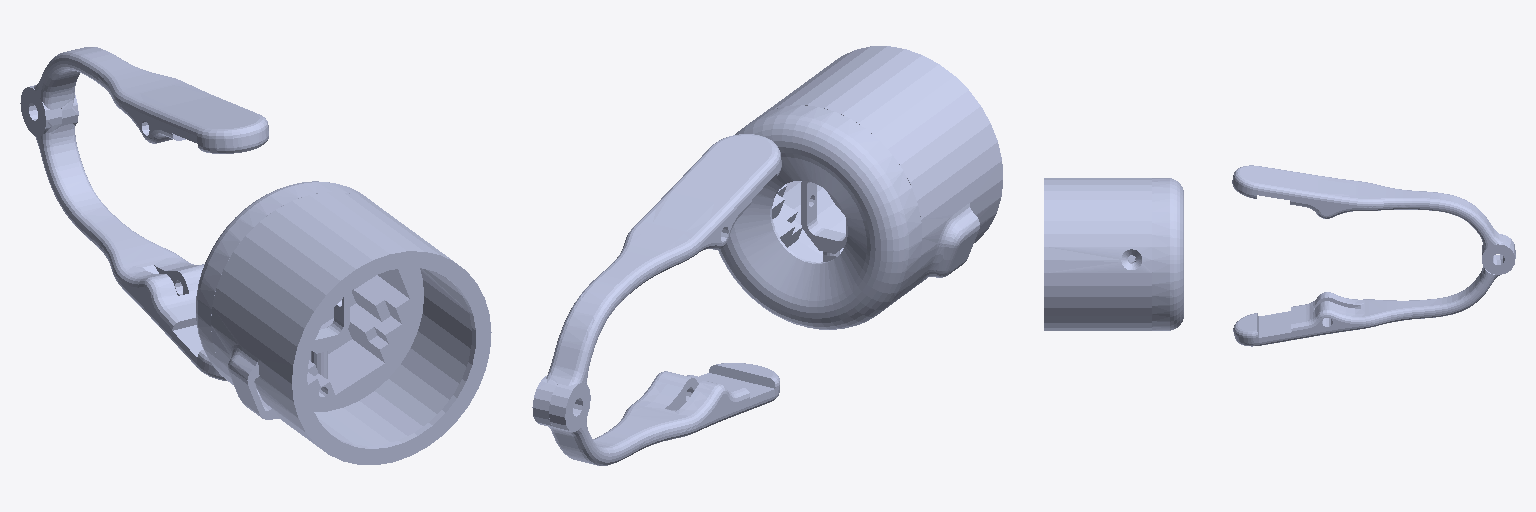
The robot description file, URDF, robot "simple_mtm_v10":
<?xml version="1.0" encoding="utf-8"?>
<!-- This URDF was automatically created by SolidWorks to URDF Exporter! Originally created by [author] ([email redacted]) 
     Commit Version: 1.6.0-4-g7f85cfe  Build Version: 1.6.7995.38578
     For more information, please see http://wiki.ros.org/sw_urdf_exporter -->
<robot
  name="simple_mtm_v10">
  <link
    name="base_link">
    <inertial>
      <origin
        xyz="5.4719872648555E-12 0.0331941103362252 0.121119699522856"
        rpy="0 0 0" />
      <mass
        value="1.10120945723253" />
      <inertia
        ixx="0.00778946719068149"
        ixy="-1.55089607188298E-14"
        ixz="-7.15589016934064E-15"
        iyy="0.00613139149583515"
        iyz="-6.01985020734907E-07"
        izz="0.00283497412761364" />
    </inertial>
    <visual>
      <origin
        xyz="0 0 0"
        rpy="0 0 0" />
      <geometry>
        <mesh
          filename="package://joint_testing/meshes/visual/base_link.STL" />
      </geometry>
      <material
        name="">
        <color
          rgba="0.752941176470588 0.752941176470588 0.752941176470588 1" />
      </material>
    </visual>
    <collision>
      <origin
        xyz="0 0 0"
        rpy="0 0 0" />
      <geometry>
        <mesh
          filename="package://joint_testing/meshes/visual/base_link.STL" />
      </geometry>
    </collision>
  </link>
  <link
    name="right_J1_link">
    <inertial>
      <origin
        xyz="-0.0272468641090351 -0.00431239962159002 0.0136177788693075"
        rpy="0 0 0" />
      <mass
        value="0.217265269014196" />
      <inertia
        ixx="8.82896586774548E-05"
        ixy="-5.23747831657561E-06"
        ixz="4.84618661160386E-07"
        iyy="9.88337545554134E-05"
        iyz="3.160560405688E-07"
        izz="0.000161817724573325" />
    </inertial>
    <visual>
      <origin
        xyz="0 0 0"
        rpy="0 0 0" />
      <geometry>
        <mesh
          filename="package://joint_testing/meshes/visual/right_J1_link.STL" />
      </geometry>
      <material
        name="">
        <color
          rgba="0.752941176470588 0.752941176470588 0.752941176470588 1" />
      </material>
    </visual>
    <collision>
      <origin
        xyz="0 0 0"
        rpy="0 0 0" />
      <geometry>
        <mesh
          filename="package://joint_testing/meshes/visual/right_J1_link.STL" />
      </geometry>
    </collision>
  </link>
  <joint
    name="right_J1_joint"
    type="continuous">
    <origin
      xyz="0 0.216999999999988 0.284999999999997"
      rpy="-1.57079632679489 0 0" />
    <parent
      link="base_link" />
    <child
      link="right_J1_link" />
    <axis
      xyz="0 0 1" />
    <limit
      lower="0"
      upper="0"
      effort="0"
      velocity="0" />
  </joint>
  <link
    name="right_J2_link">
    <inertial>
      <origin
        xyz="0.123474393867848 0.0151001355687571 0.00892223373852938"
        rpy="0 0 0" />
      <mass
        value="0.028442603557216" />
      <inertia
        ixx="2.23413747833825E-06"
        ixy="-3.63778375387454E-11"
        ixz="-8.63056316192372E-08"
        iyy="2.11946804960037E-05"
        iyz="1.95087355715519E-13"
        izz="2.18319915210086E-05" />
    </inertial>
    <visual>
      <origin
        xyz="0 0 0"
        rpy="0 0 0" />
      <geometry>
        <mesh
          filename="package://joint_testing/meshes/visual/right_J2_link.STL" />
      </geometry>
      <material
        name="">
        <color
          rgba="0.752941176470588 0.752941176470588 0.752941176470588 1" />
      </material>
    </visual>
    <collision>
      <origin
        xyz="0 0 0"
        rpy="0 0 0" />
      <geometry>
        <mesh
          filename="package://joint_testing/meshes/visual/right_J2_link.STL" />
      </geometry>
    </collision>
  </link>
  <joint
    name="right_J2_joint"
    type="continuous">
    <origin
      xyz="0.0349999999999925 0.0150999999999992 0.0200000000000018"
      rpy="3.14159265358979 0 0" />
    <parent
      link="right_J1_link" />
    <child
      link="right_J2_link" />
    <axis
      xyz="0 1 0" />
    <limit
      lower="0"
      upper="0"
      effort="0"
      velocity="0" />
  </joint>
  <link
    name="right_J3_link">
    <inertial>
      <origin
        xyz="0.169855168676658 -0.0030588386977515 0.000145482432828969"
        rpy="0 0 0" />
      <mass
        value="0.0380698507633094" />
      <inertia
        ixx="3.57015181869291E-06"
        ixy="5.77797289983113E-08"
        ixz="-8.33816062414886E-09"
        iyy="2.50590429093487E-05"
        iyz="-4.10119336474951E-09"
        izz="2.32459379312169E-05" />
    </inertial>
    <visual>
      <origin
        xyz="0 0 0"
        rpy="0 0 0" />
      <geometry>
        <mesh
          filename="package://joint_testing/meshes/visual/right_J3_link.STL" />
      </geometry>
      <material
        name="">
        <color
          rgba="0.752941176470588 0.752941176470588 0.752941176470588 1" />
      </material>
    </visual>
    <collision>
      <origin
        xyz="0 0 0"
        rpy="0 0 0" />
      <geometry>
        <mesh
          filename="package://joint_testing/meshes/visual/right_J3_link.STL" />
      </geometry>
    </collision>
  </link>
  <joint
    name="right_J3_joint"
    type="continuous">
    <origin
      xyz="0.227499999999998 0.0150999999999999 0.0195"
      rpy="1.5707963267949 0 -1.5707963267949" />
    <parent
      link="right_J2_link" />
    <child
      link="right_J3_link" />
    <axis
      xyz="0 1 0" />
    <limit
      lower="0"
      upper="0"
      effort="0"
      velocity="0" />
  </joint>
  <link
    name="right_G3_link">
    <inertial>
      <origin
        xyz="-0.000538298034256923 -0.0307137660110574 0.039930624443191"
        rpy="0 0 0" />
      <mass
        value="0.0139115090394775" />
      <inertia
        ixx="2.05714095768684E-06"
        ixy="1.18920441797106E-08"
        ixz="1.26103314022491E-08"
        iyy="3.24885522100954E-06"
        iyz="8.79998026858796E-09"
        izz="2.08516206561185E-06" />
    </inertial>
    <visual>
      <origin
        xyz="0 0 0"
        rpy="0 0 0" />
      <geometry>
        <mesh
          filename="package://joint_testing/meshes/visual/right_G3_link.STL" />
      </geometry>
      <material
        name="">
        <color
          rgba="0.792156862745098 0.819607843137255 0.933333333333333 1" />
      </material>
    </visual>
    <collision>
      <origin
        xyz="0 0 0"
        rpy="0 0 0" />
      <geometry>
        <mesh
          filename="package://joint_testing/meshes/visual/right_G3_link.STL" />
      </geometry>
    </collision>
  </link>
  <joint
    name="right_G3_joint"
    type="continuous">
    <origin
      xyz="0.192500000000002 0.00969999999999821 0"
      rpy="0 1.5707963267949 0" />
    <parent
      link="right_J3_link" />
    <child
      link="right_G3_link" />
    <axis
      xyz="0 1 0" />
    <limit
      lower="0"
      upper="0"
      effort="0"
      velocity="0" />
  </joint>
  <link
    name="right_G2_link">
    <inertial>
      <origin
        xyz="-0.000193564668082624 -0.0340058831715823 0.0387465222468122"
        rpy="0 0 0" />
      <mass
        value="0.000175394578104925" />
      <inertia
        ixx="6.00806245621315E-09"
        ixy="1.19071568961015E-11"
        ixz="-1.77273008759156E-09"
        iyy="7.79464906245331E-09"
        iyz="3.12378910526836E-11"
        izz="2.03310817422897E-09" />
    </inertial>
    <visual>
      <origin
        xyz="0 0 0"
        rpy="0 0 0" />
      <geometry>
        <mesh
          filename="package://joint_testing/meshes/visual/right_G2_link.STL" />
      </geometry>
      <material
        name="">
        <color
          rgba="0.792156862745098 0.819607843137255 0.933333333333333 1" />
      </material>
    </visual>
    <collision>
      <origin
        xyz="0 0 0"
        rpy="0 0 0" />
      <geometry>
        <mesh
          filename="package://joint_testing/meshes/visual/right_G2_link.STL" />
      </geometry>
    </collision>
  </link>
  <joint
    name="right_G2_joint"
    type="continuous">
    <origin
      xyz="-0.0139815439024298 0.00129786118054417 0.0772341692003624"
      rpy="-3.14159265358979 0.364174851103282 -3.14159265358979" />
    <parent
      link="right_G3_link" />
    <child
      link="right_G2_link" />
    <axis
      xyz="0.356178381855326 0 0.934417979439031" />
    <limit
      lower="0"
      upper="0"
      effort="0"
      velocity="0" />
  </joint>
  <link
    name="right_G1_link">
    <inertial>
      <origin
        xyz="0.00018689693137236 -0.119856134439348 0.0397448705988263"
        rpy="0 0 0" />
      <mass
        value="0.00625621520567208" />
      <inertia
        ixx="1.27666098425882E-05"
        ixy="-3.81984029962047E-10"
        ixz="1.82290603449966E-09"
        iyy="1.14531246370276E-07"
        iyz="-1.08584454873241E-09"
        izz="1.27722041084183E-05" />
    </inertial>
    <visual>
      <origin
        xyz="0 0 0"
        rpy="0 0 0" />
      <geometry>
        <mesh
          filename="package://joint_testing/meshes/visual/right_G1_link.STL" />
      </geometry>
      <material
        name="">
        <color
          rgba="0.792156862745098 0.819607843137255 0.933333333333333 1" />
      </material>
    </visual>
    <collision>
      <origin
        xyz="0 0 0"
        rpy="0 0 0" />
      <geometry>
        <mesh
          filename="package://joint_testing/meshes/visual/right_G1_link.STL" />
      </geometry>
    </collision>
  </link>
  <joint
    name="right_G1_joint"
    type="continuous">
    <origin
      xyz="0 0 0"
      rpy="0 0 0" />
    <parent
      link="right_G2_link" />
    <child
      link="right_G1_link" />
    <axis
      xyz="0.934417979439031 0 -0.356178381855326" />
    <limit
      lower="0"
      upper="0"
      effort="0"
      velocity="0" />
  </joint>
  <link
    name="right_lever_1_link">
    <inertial>
      <origin
        xyz="0.00510793200874701 -0.0889448703770281 0.0529085638546365"
        rpy="0 0 0" />
      <mass
        value="0.00204075415287948" />
      <inertia
        ixx="7.29183551455903E-07"
        ixy="-6.03030711122902E-08"
        ixz="-1.19420109398606E-08"
        iyy="6.47741964762146E-08"
        iyz="-1.39761570231975E-07"
        izz="7.10623170243152E-07" />
    </inertial>
    <visual>
      <origin
        xyz="0 0 0"
        rpy="0 0 0" />
      <geometry>
        <mesh
          filename="package://joint_testing/meshes/visual/right_lever_1_link.STL" />
      </geometry>
      <material
        name="">
        <color
          rgba="0.792156862745098 0.819607843137255 0.933333333333333 1" />
      </material>
    </visual>
    <collision>
      <origin
        xyz="0 0 0"
        rpy="0 0 0" />
      <geometry>
        <mesh
          filename="package://joint_testing/meshes/visual/right_lever_1_link.STL" />
      </geometry>
    </collision>
  </link>
  <joint
    name="right_lever_1_joint"
    type="continuous">
    <origin
      xyz="-0.000578106027015302 0.00496024892621399 0.0771324048250518"
      rpy="-3.12182427052133 -7.44784606204923E-05 -3.13405782561958" />
    <parent
      link="right_G1_link" />
    <child
      link="right_lever_1_link" />
    <axis
      xyz="0.934417979439032 0 -0.356178381855324" />
    <limit
      lower="0"
      upper="0"
      effort="0"
      velocity="0" />
  </joint>
  <link
    name="right_lever_2_link">
    <inertial>
      <origin
        xyz="0.00510793196677284 -0.0889448706223261 0.0529085639711742"
        rpy="0 0 0" />
      <mass
        value="0.00204075409890077" />
      <inertia
        ixx="7.2918356031614E-07"
        ixy="-6.0303075402171E-08"
        ixz="-1.19420115546858E-08"
        iyy="6.47741938421055E-08"
        iyz="-1.39761574634627E-07"
        izz="7.10623180129961E-07" />
    </inertial>
    <visual>
      <origin
        xyz="0 0 0"
        rpy="0 0 0" />
      <geometry>
        <mesh
          filename="package://joint_testing/meshes/visual/right_lever_2_link.STL" />
      </geometry>
      <material
        name="">
        <color
          rgba="0.792156862745098 0.819607843137255 0.933333333333333 1" />
      </material>
    </visual>
    <collision>
      <origin
        xyz="0 0 0"
        rpy="0 0 0" />
      <geometry>
        <mesh
          filename="package://joint_testing/meshes/visual/right_lever_2_link.STL" />
      </geometry>
    </collision>
  </link>
  <joint
    name="right_lever_2_joint"
    type="continuous">
    <origin
      xyz="0.00036791989843285 0.00447042270834766 0.000824842222483302"
      rpy="0.00686960114312612 0 -0.00261851443835586" />
    <parent
      link="right_G1_link" />
    <child
      link="right_lever_2_link" />
    <axis
      xyz="-0.934417979439032 0 0.356178381855325" />
    <limit
      lower="0"
      upper="0"
      effort="0"
      velocity="0" />
  </joint>
</robot>

--- Render facts (derived) ---
The picture shows the robot from 3 angles, left to right: view 1: azimuth 30°, elevation 25°; view 2: azimuth 150°, elevation 25°; view 3: azimuth 270°, elevation 25°; orthographic projection.
Model simple_mtm_v10 with 9 links and 8 joints (8 continuous), rooted at base_link, posed all joints at 0.
Links seen in each view (by area): view 1: right_G3_link, right_lever_1_link, right_lever_2_link, right_G2_link; view 2: right_G3_link, right_lever_2_link, right_lever_1_link, right_G2_link; view 3: right_G3_link, right_lever_2_link, right_lever_1_link.
Link boxes in pixels (x1,y1,x2,y2): right_G3_link: [196, 181, 491, 464]; right_lever_1_link: [20, 85, 226, 380]; right_lever_2_link: [34, 47, 268, 153]; right_G2_link: [311, 292, 349, 378]; right_G3_link: [718, 46, 1002, 329]; right_lever_2_link: [532, 134, 781, 427]; right_lever_1_link: [549, 363, 779, 465]; right_G2_link: [801, 181, 847, 261]; right_G3_link: [1044, 178, 1183, 330]; right_lever_2_link: [1232, 165, 1515, 274]; right_lever_1_link: [1233, 234, 1515, 346].
Size in the robot's own frame: 0.0379 by 0.1108 by 0.0437 metres.
4 mesh visuals loaded from 9 distinct referenced files (4 binary STL); not drawn: 5 (reference not matched to a file when rendering).